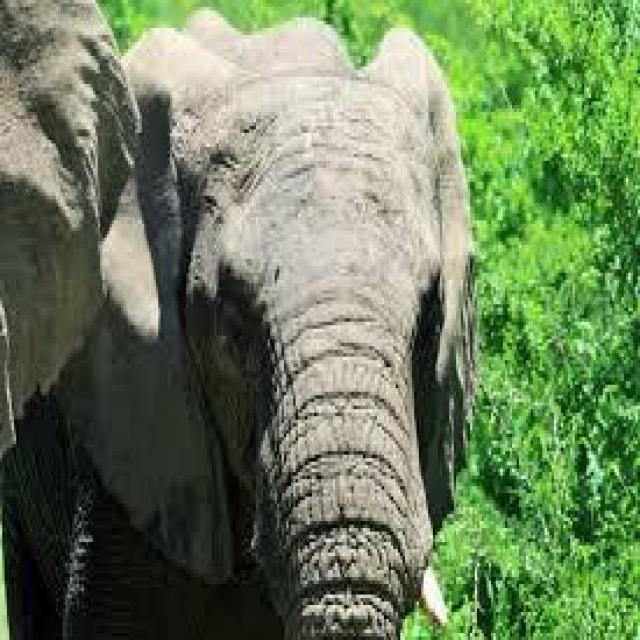Elephant: (91, 4, 468, 636)
